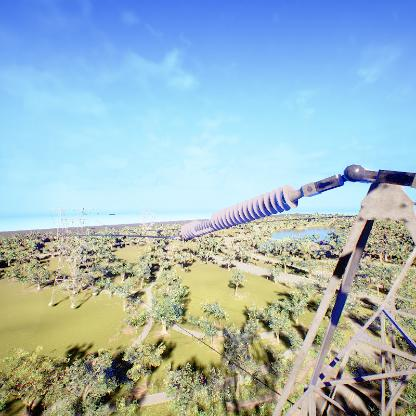insulator: (180, 184, 299, 241)
